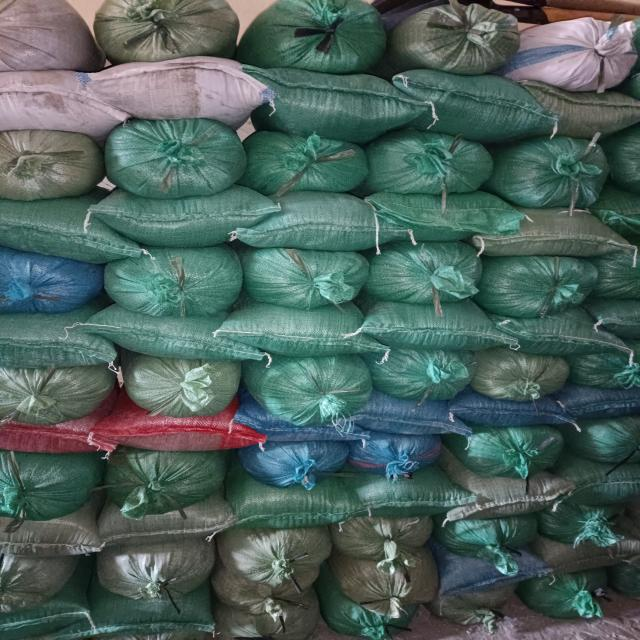Bistay sand: (2, 69, 249, 121), (515, 22, 639, 84), (260, 81, 420, 128), (104, 134, 238, 188), (109, 249, 238, 305), (261, 7, 385, 63), (11, 200, 131, 256), (401, 11, 508, 73), (104, 200, 260, 242), (244, 200, 400, 242), (363, 198, 519, 240), (214, 532, 331, 588), (485, 213, 640, 255), (89, 9, 228, 55), (253, 136, 369, 188), (375, 139, 491, 191), (500, 145, 615, 197), (339, 502, 439, 558), (348, 550, 448, 606), (439, 516, 539, 572), (465, 472, 567, 522), (358, 473, 460, 523), (249, 478, 351, 528), (127, 361, 241, 405), (103, 416, 251, 449), (542, 501, 632, 555), (102, 548, 212, 592), (101, 318, 235, 354), (494, 318, 628, 354), (435, 83, 528, 134), (119, 493, 227, 536), (1, 516, 109, 559), (493, 262, 596, 306), (372, 257, 475, 301), (259, 257, 362, 301), (1, 265, 104, 309), (1, 317, 104, 361), (1, 369, 104, 413), (267, 366, 370, 410), (363, 355, 466, 399), (464, 353, 567, 397), (1, 139, 92, 188), (245, 313, 367, 349), (522, 575, 620, 618), (328, 594, 426, 637), (430, 584, 528, 627), (103, 595, 201, 638), (212, 598, 310, 640), (2, 598, 100, 640), (1, 7, 78, 59), (457, 398, 572, 431), (363, 403, 478, 436), (245, 410, 360, 443), (536, 91, 633, 129), (370, 313, 485, 344), (6, 463, 92, 503), (119, 457, 205, 497), (251, 445, 337, 485), (359, 433, 445, 473), (468, 431, 554, 471), (542, 538, 639, 567), (1, 558, 63, 599), (578, 379, 637, 422), (582, 349, 640, 392), (579, 425, 640, 463), (579, 464, 640, 502), (1, 425, 90, 451), (603, 262, 640, 302), (616, 140, 640, 186)
Gravel: (515, 23, 639, 85)
